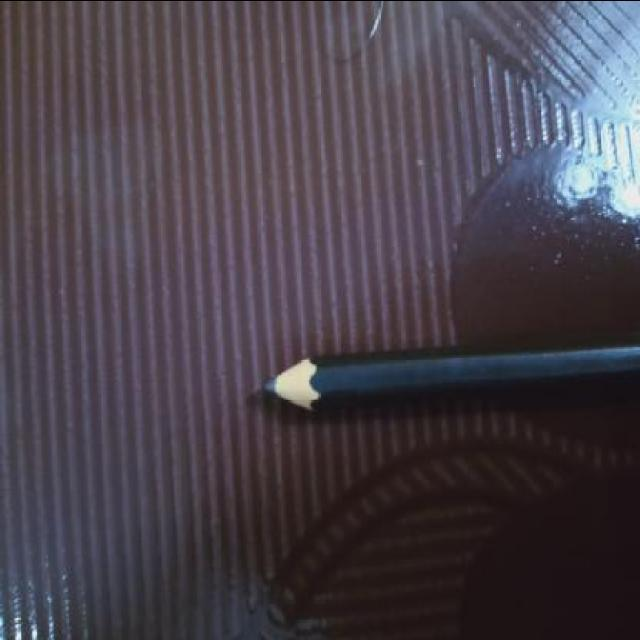Pencil: (259, 352, 321, 417)
